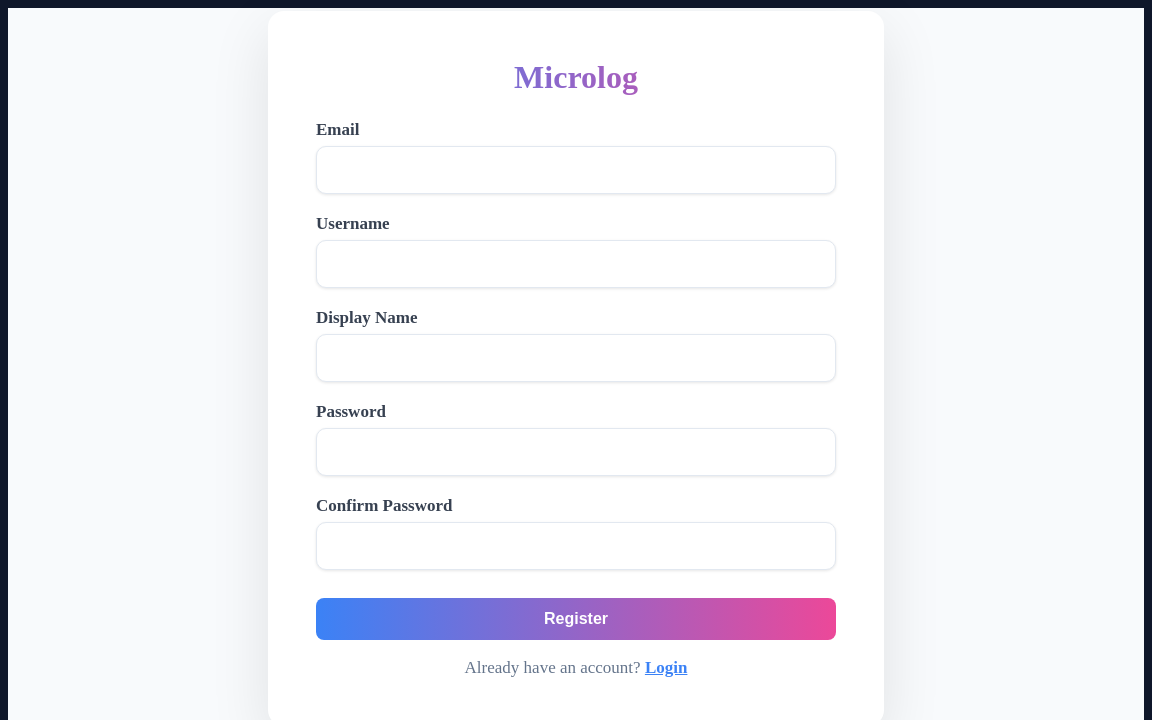
it: RegisterForm › shows inline error when username format is invalid
Type "alice@example.com" into the field labelled "Email" at (576, 170), box [316,146,836,194]
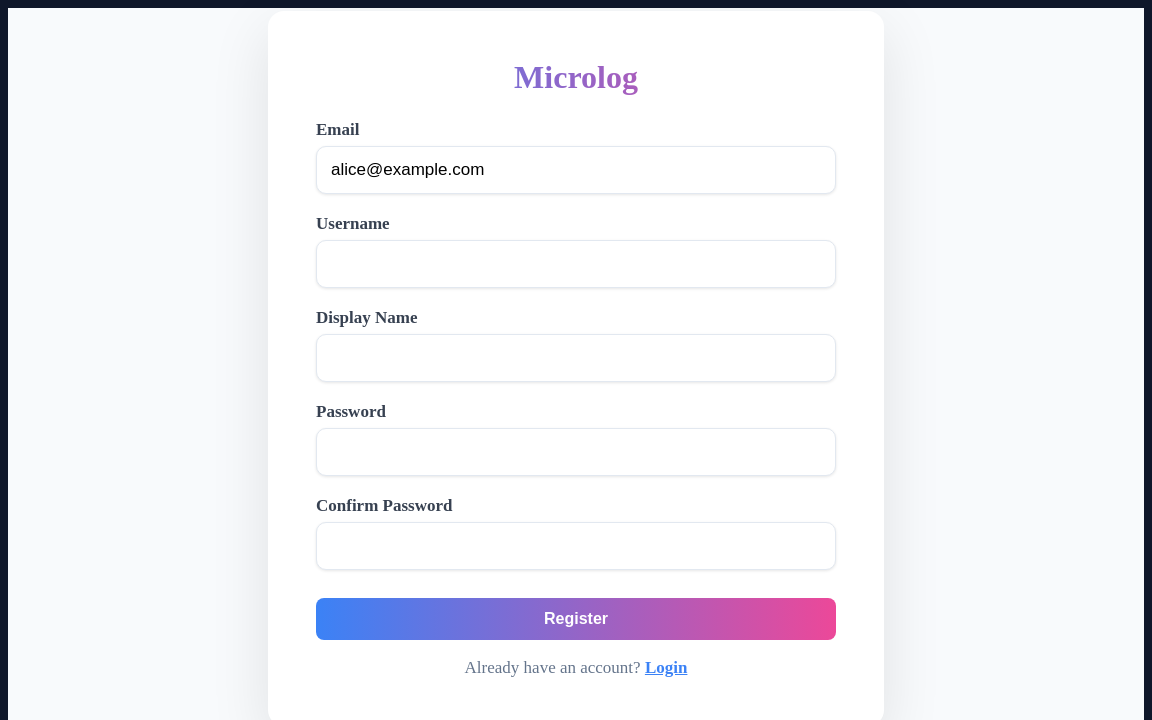
Type "!" into the field labelled "Username" at (576, 264), box [316,240,836,288]
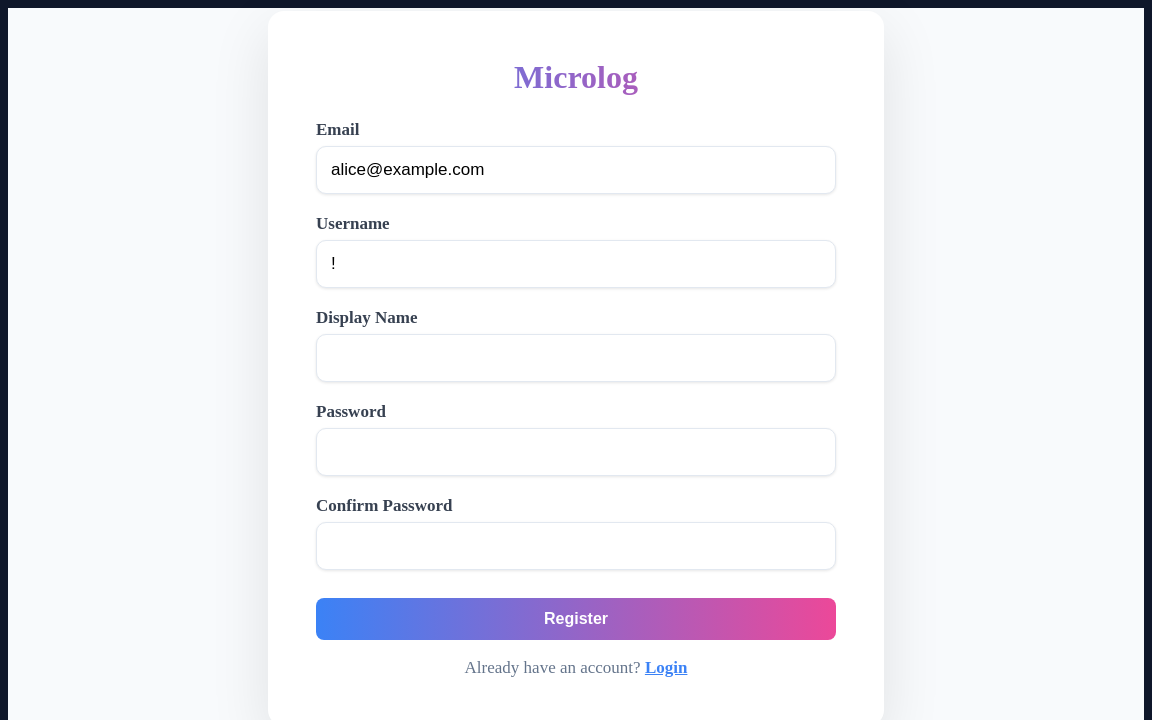
Type "Alice" into the field labelled "Display Name" at (576, 358), box [316,334,836,382]
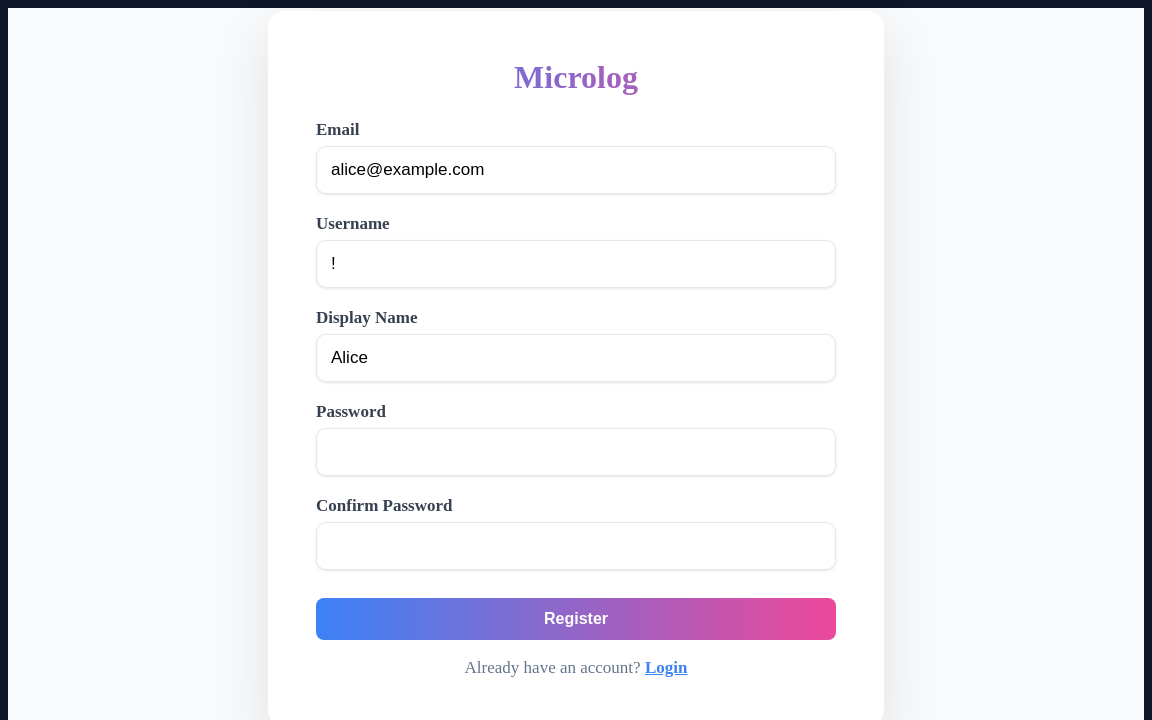
Type "Password1!" into the password field labelled "Password" at (576, 452), box [316,428,836,476]
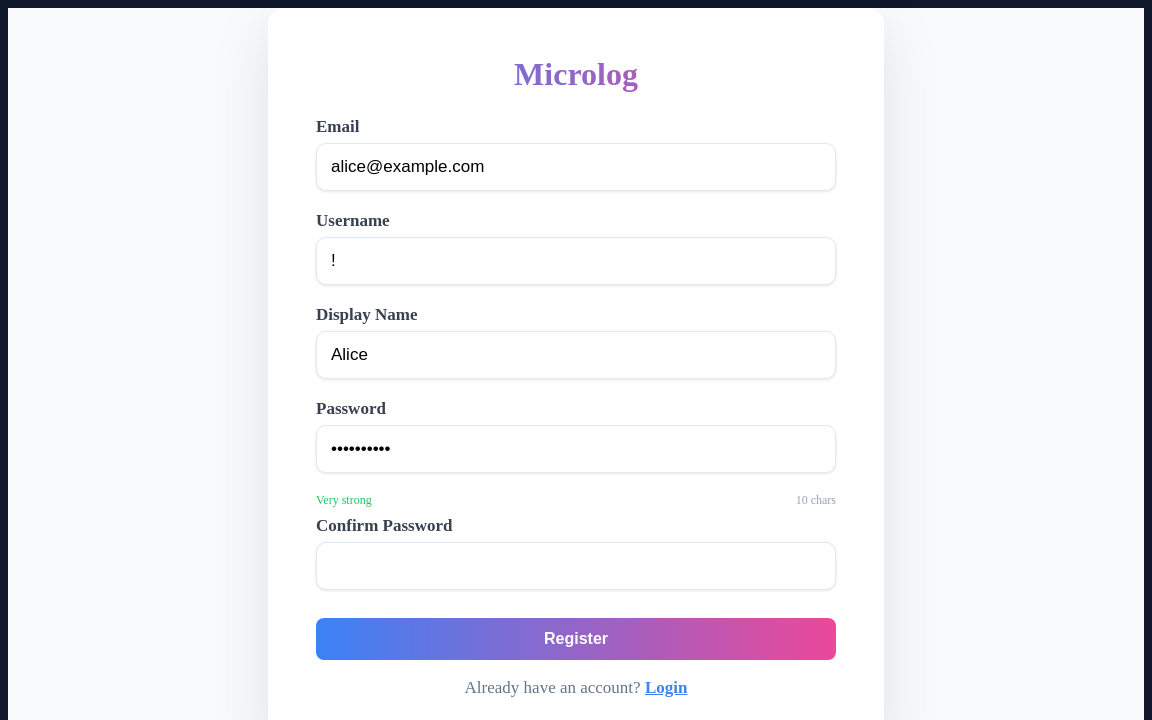
Type "Password1!" into the password field labelled "Confirm Password" at (576, 566), box [316,542,836,590]
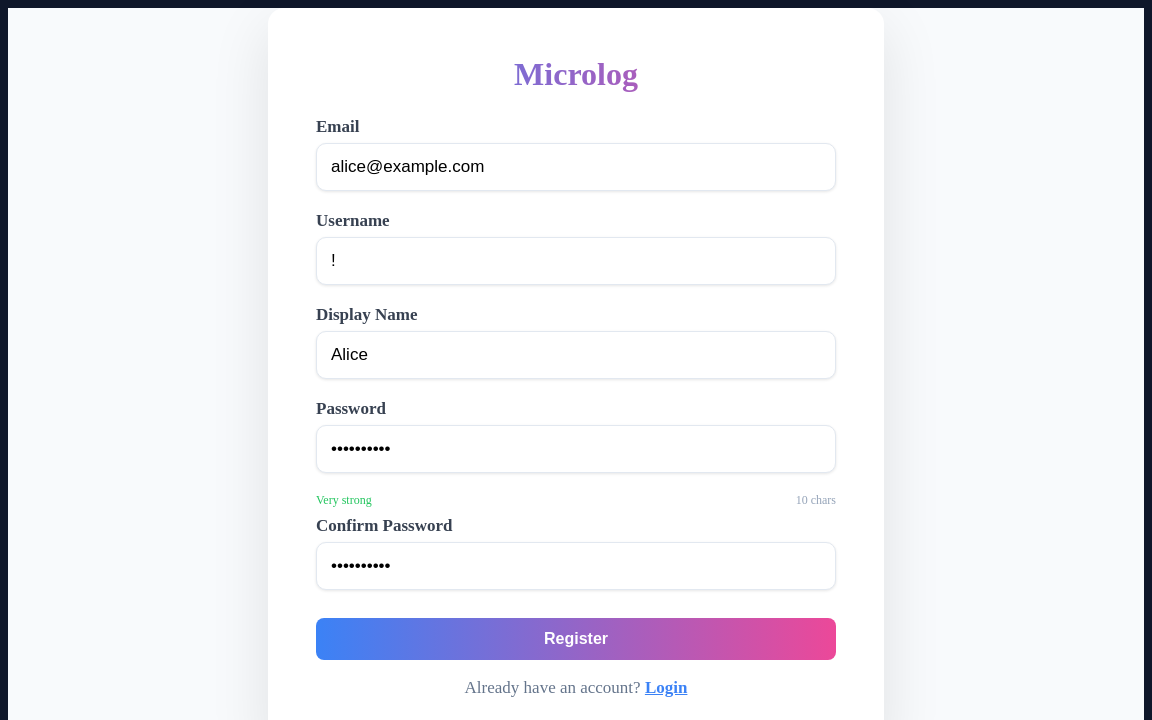
Click the button "Register" at (576, 639), box [316,618,836,660]
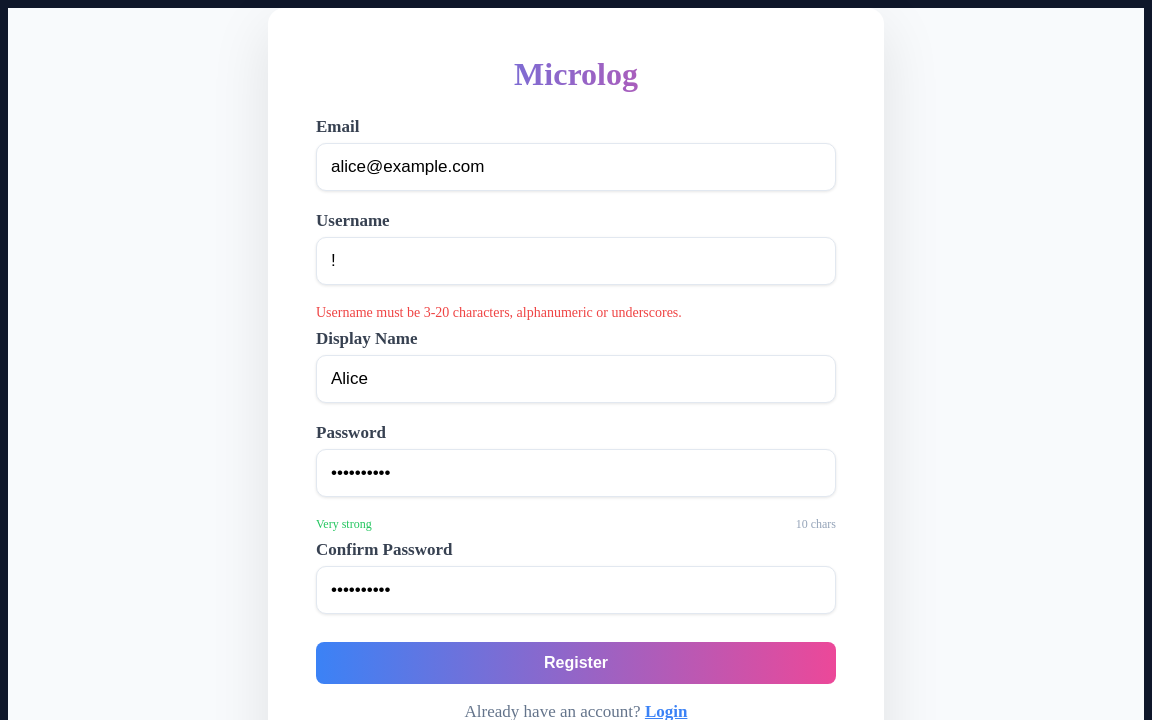
Check: the text "Username must be 3-20 characters, alphanumeric or underscores." is shown, box [316,305,682,320]
